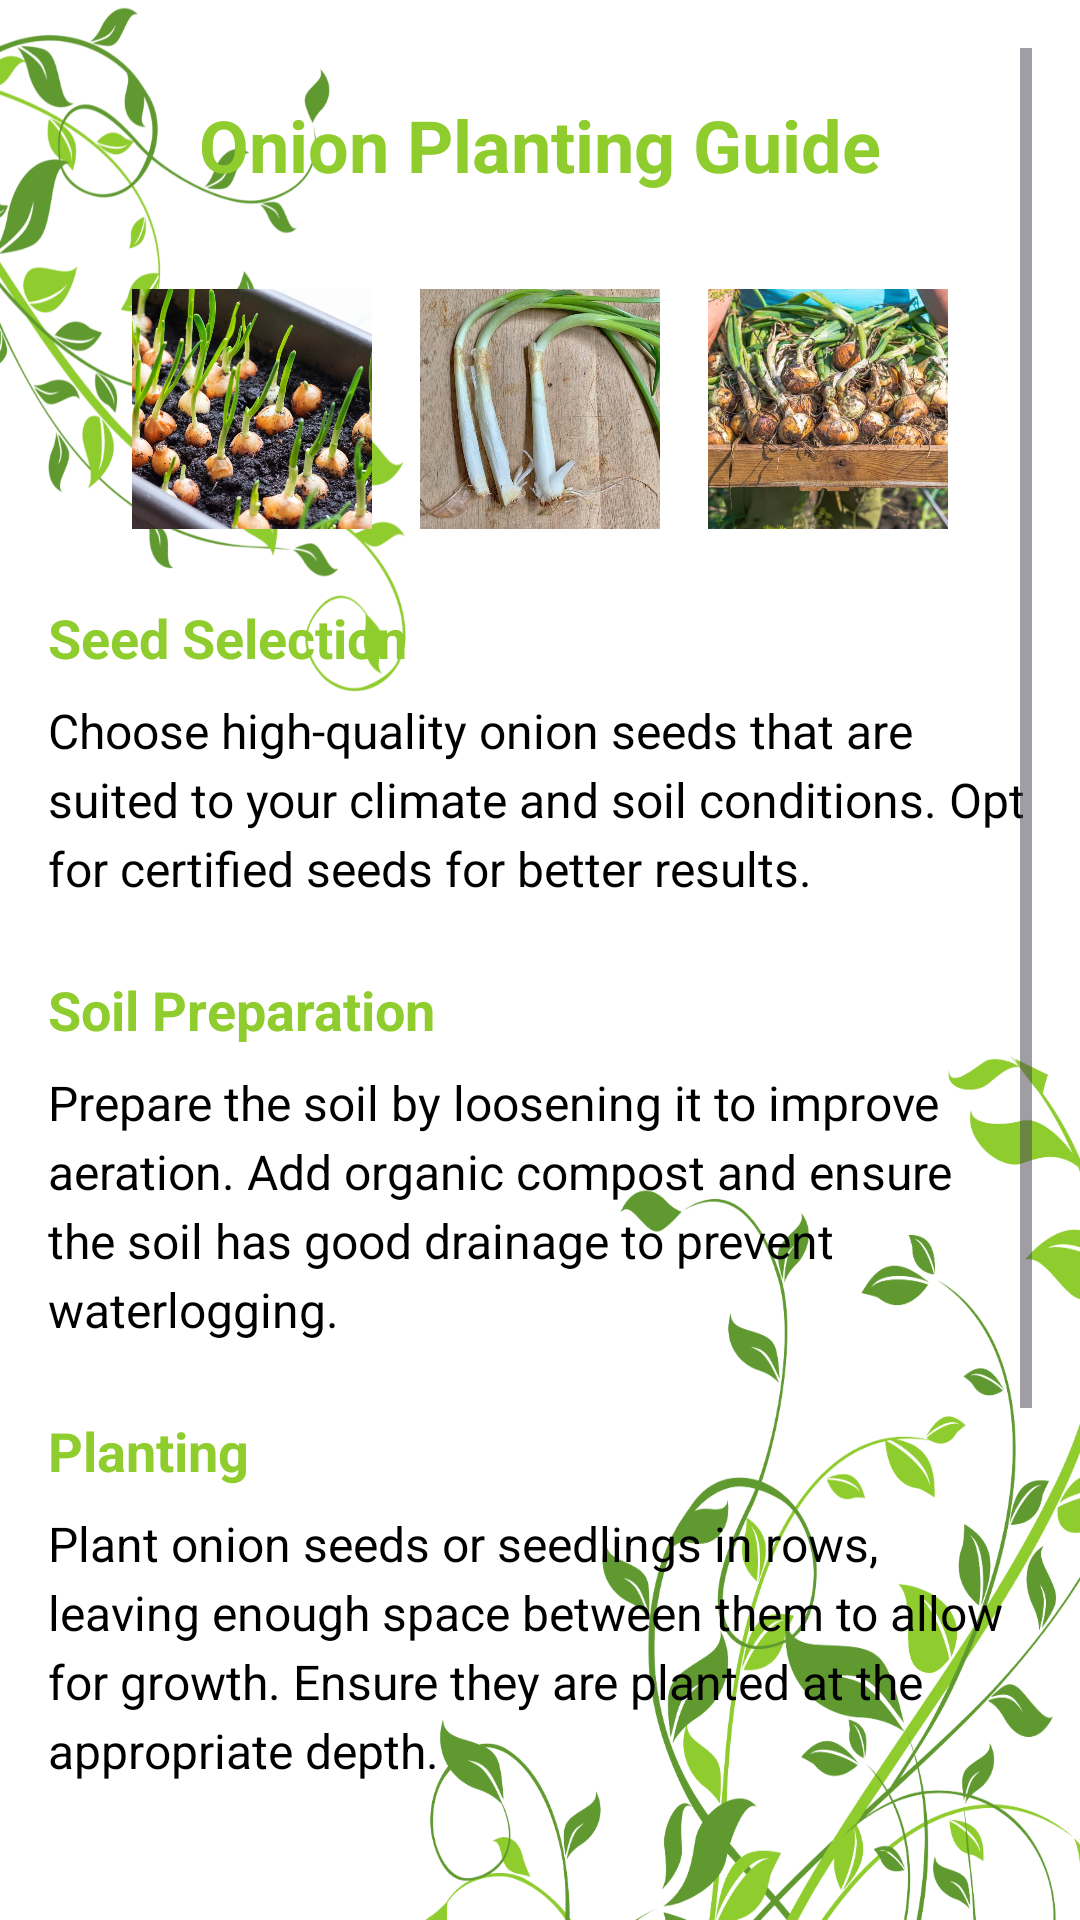

Where icons sit on this 1080 x 1920 app screen, as [left=x1, top=y1, right=x2, bottom=y2]:
onion harvest: [left=708, top=289, right=948, bottom=529]
onion seed: [left=132, top=289, right=372, bottom=529]
onion sprout: [left=420, top=289, right=660, bottom=529]
